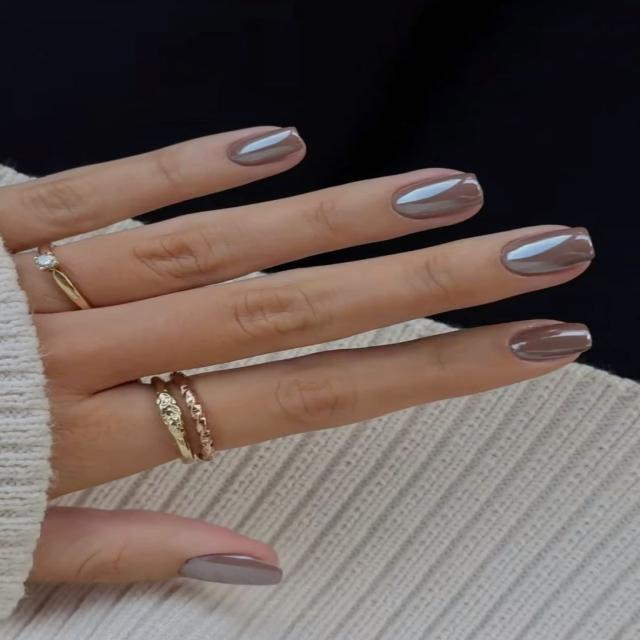Fingernail: (501, 227, 595, 275), (391, 173, 482, 218), (509, 323, 592, 361), (226, 127, 304, 166), (182, 557, 281, 586)
